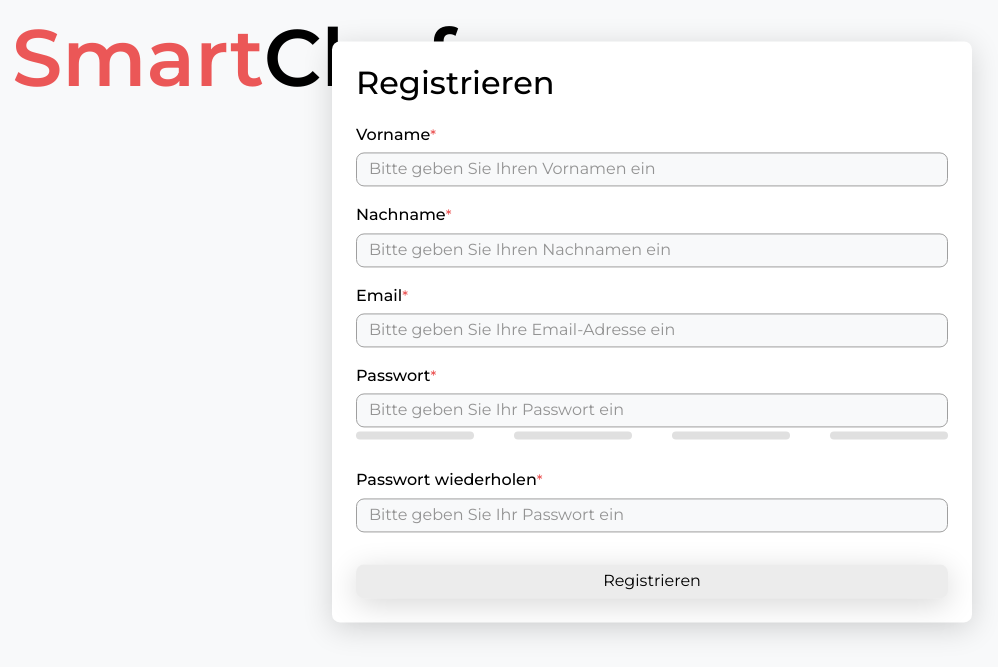
Test: Register page › Should not allow user to register if password confirmation does not match
The image size is (998, 667).
Type "Test" into the field named "firstName" at (652, 170), box [356, 153, 948, 187]
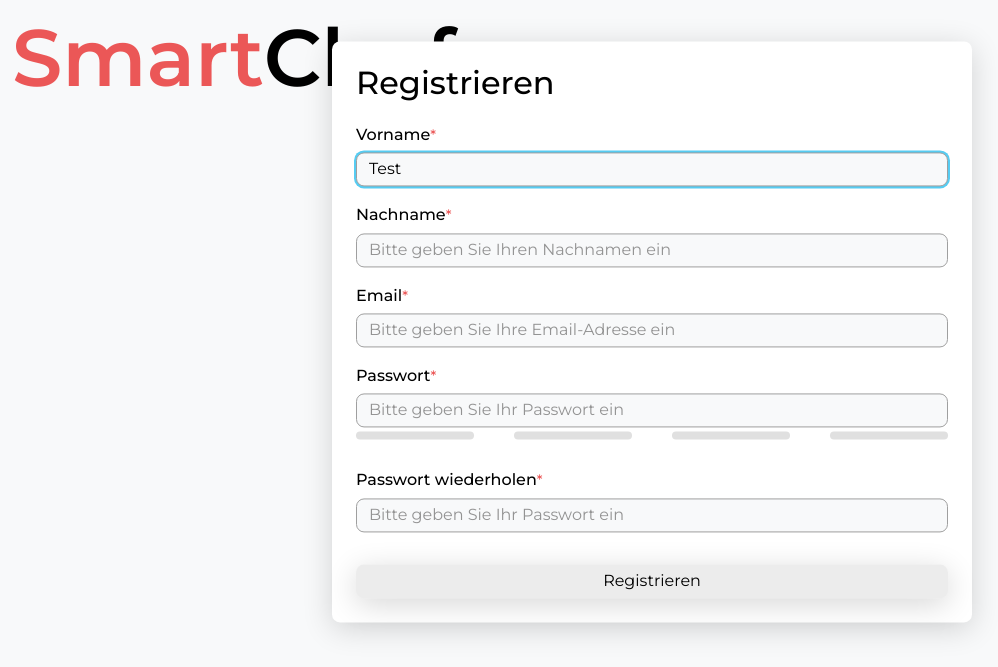
Type "User" into the field named "lastName" at (652, 250), box [356, 233, 948, 267]
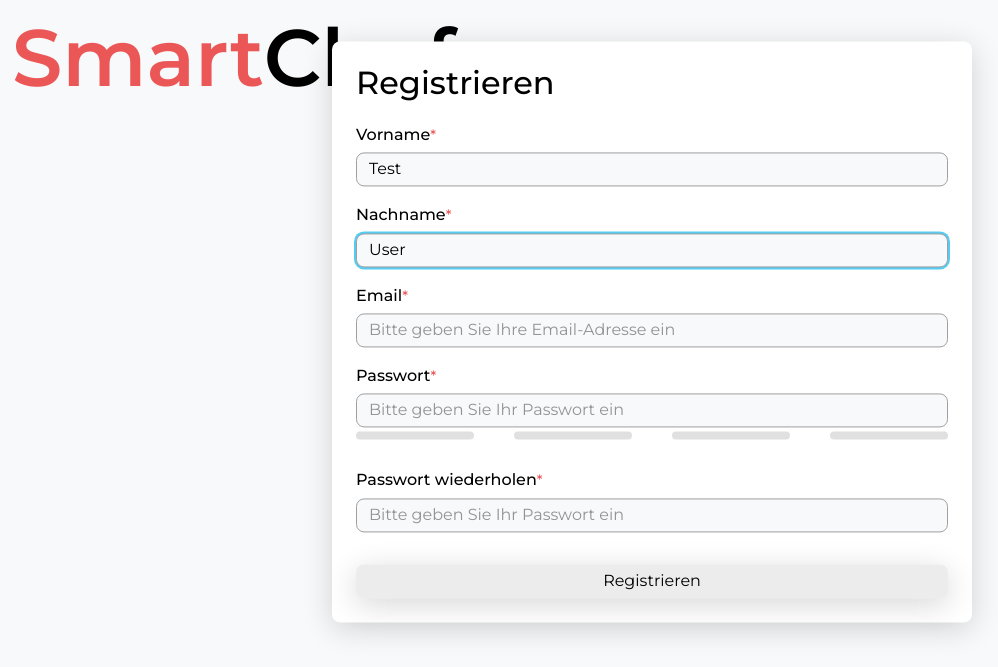
Type "test@test.org" into the field named "email" at (652, 330), box [356, 313, 948, 347]
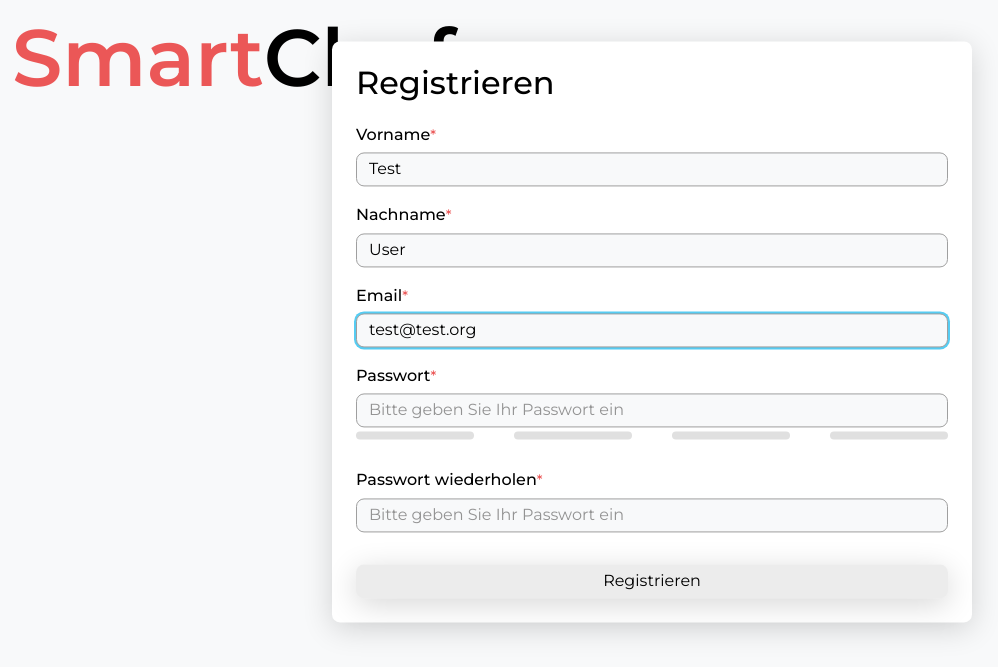
Type "aA123456" into the password field named "password" at (652, 411), box [356, 394, 948, 428]
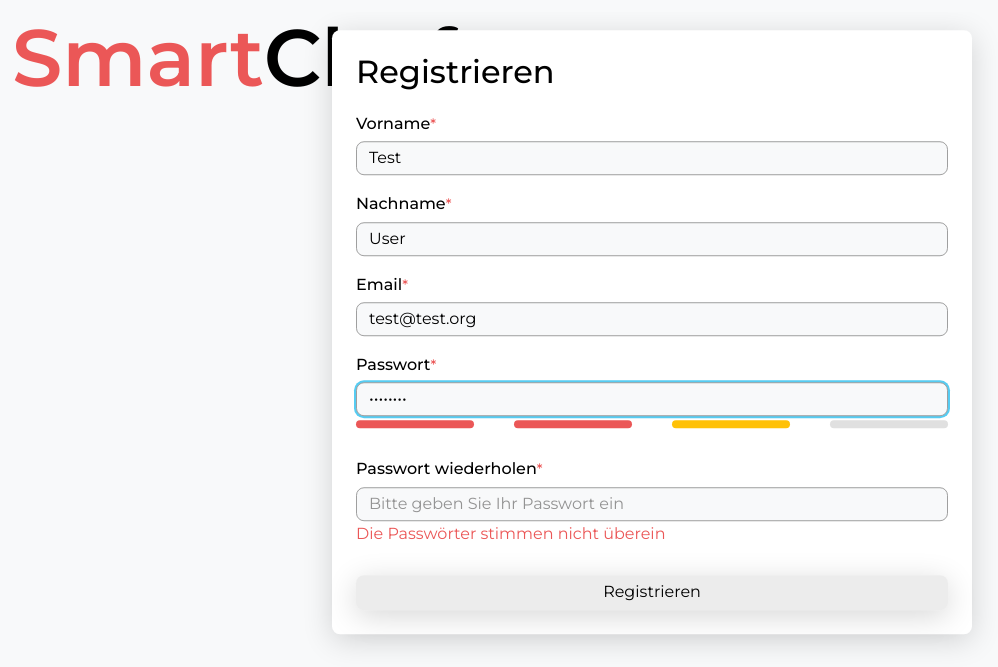
Type "aA123456" into the password field named "passwordConfirm" at (652, 504), box [356, 487, 948, 521]
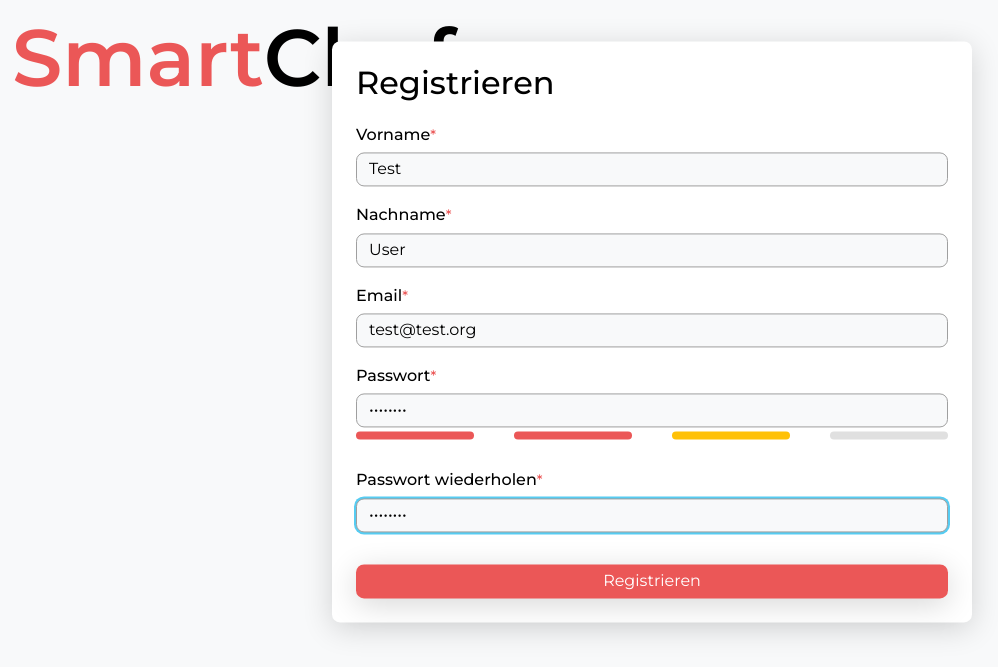
Type "otherPassword" into the password field named "passwordConfirm" at (652, 515), box [356, 498, 948, 532]
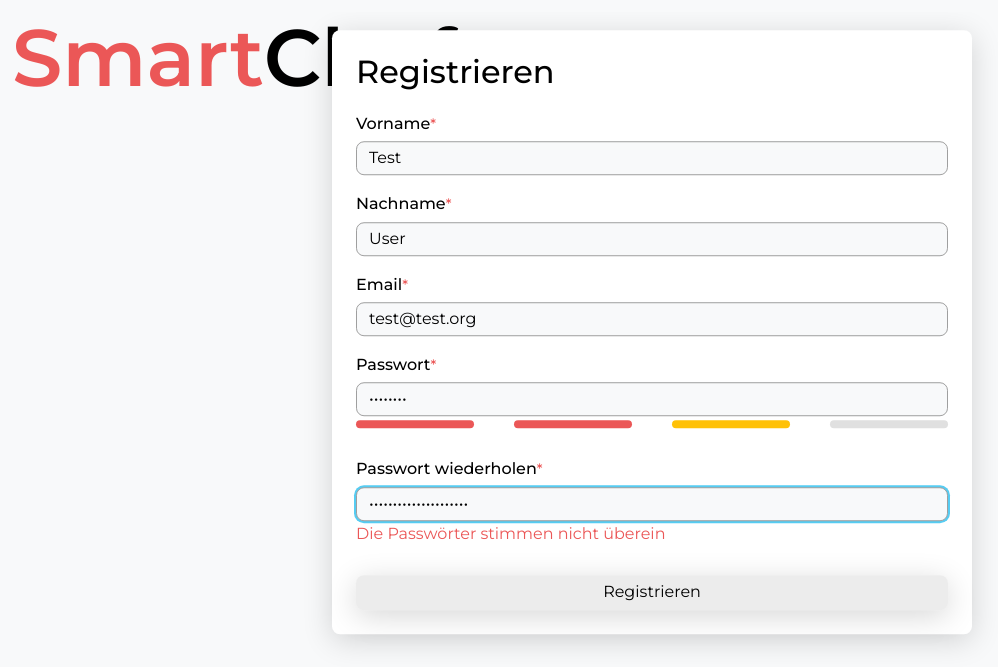
Now the submit button is disabled, box [356, 575, 948, 609]
Now the text "Die Passwörter stimmen nicht überein" is shown, box [356, 524, 666, 543]
